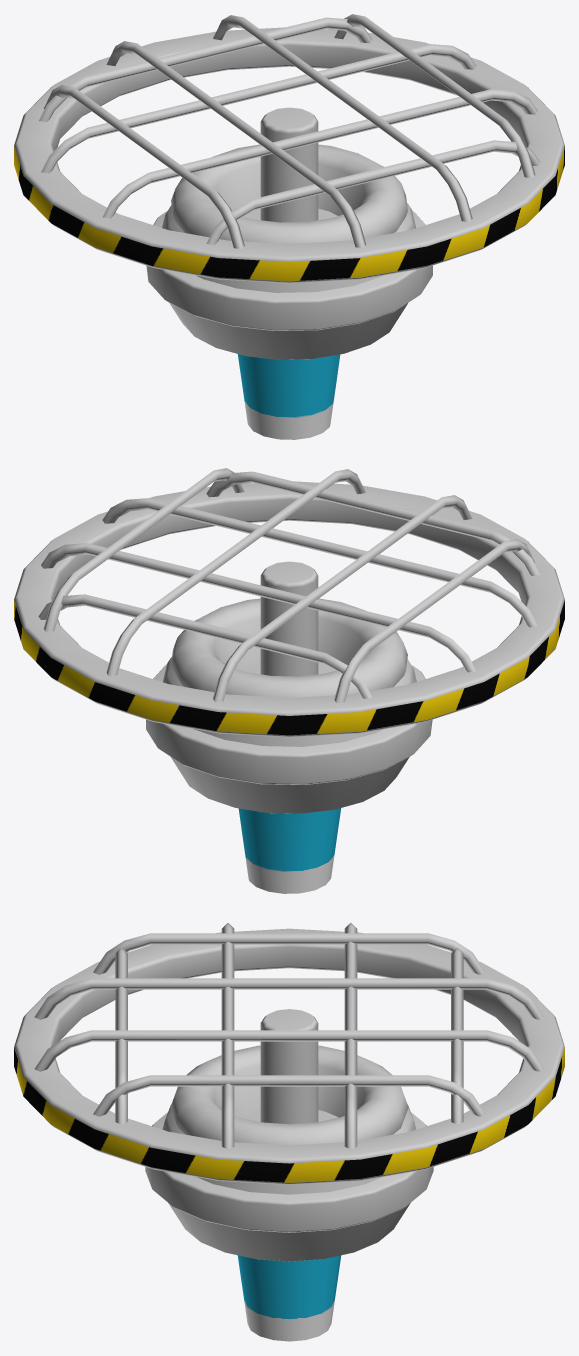
File: obstacle_16_001.fbx
The picture shows the model from 3 angles, top to bottom: view 1: azimuth 30°, elevation 25°; view 2: azimuth 150°, elevation 25°; view 3: azimuth 270°, elevation 25°; orthographic projection.
Parts seen in each view (by area): view 1: obstacle_16_001; view 2: obstacle_16_001; view 3: obstacle_16_001.
Boxes of the visible parts, x1,y1,x2,y2 form: obstacle_16_001: [14, 14, 564, 439]; obstacle_16_001: [14, 468, 564, 893]; obstacle_16_001: [14, 923, 564, 1341].
Bounding box in the file's own units: 506 × 506 × 324.
